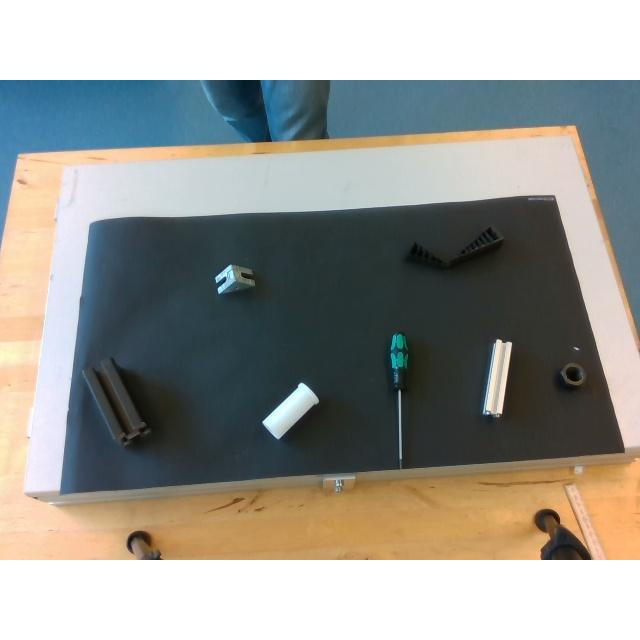F20_20_G: (482, 338, 511, 414)
M20: (557, 359, 589, 388)
S40_40_B: (82, 358, 150, 444)
Screwdriver: (386, 329, 412, 473)
Spacer: (258, 380, 320, 444)
